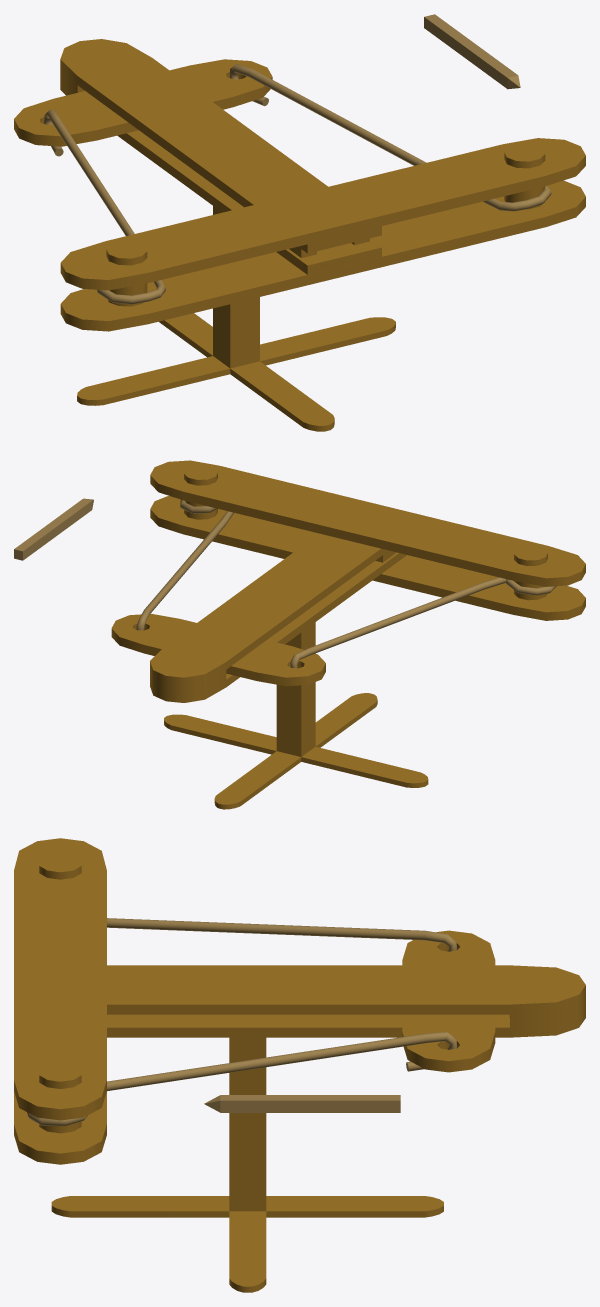
File: Ballista_and_Projectile.fbx
3 renders of one model, top to bottom at view 1: azimuth 30°, elevation 25°; view 2: azimuth 150°, elevation 25°; view 3: azimuth 270°, elevation 25°, orthographic. The views are drawn at different scales.
Visible parts, largest first — view 1: Ballista, Projectile; view 2: Ballista, Projectile; view 3: Ballista, Projectile.
Boxes of the visible parts, x1=… form: Ballista: x1=14, y1=39, x2=585, y2=431; Projectile: x1=424, y1=14, x2=520, y2=89; Ballista: x1=111, y1=460, x2=585, y2=809; Projectile: x1=14, y1=498, x2=93, y2=560; Ballista: x1=14, y1=838, x2=585, y2=1292; Projectile: x1=204, y1=1095, x2=400, y2=1112.
Size of the model in its own units: 13.63 by 5.75 by 11.88.
Materials: 2 (2 with a texture image).
